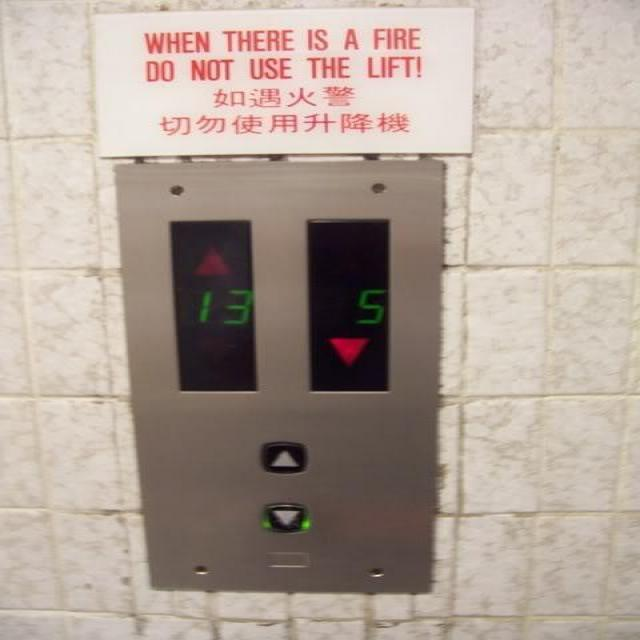down: (259, 500, 313, 534)
led: (303, 213, 392, 396), (170, 220, 258, 392)
up: (256, 439, 311, 475)
